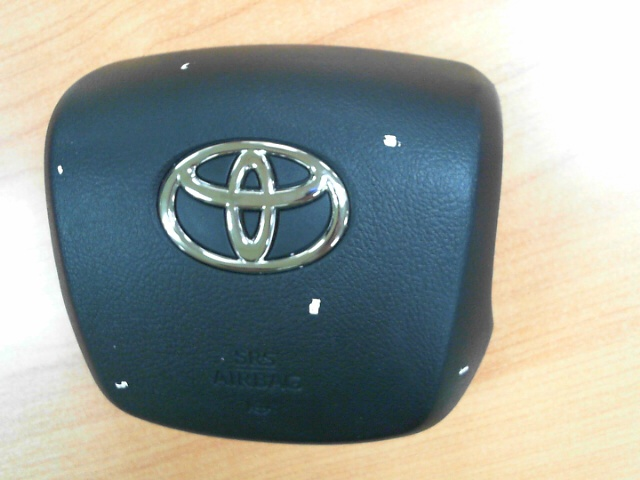Airbag: (308, 298, 322, 316), (383, 134, 400, 148), (113, 381, 128, 390), (458, 365, 469, 375), (56, 165, 64, 175), (180, 63, 190, 69)
